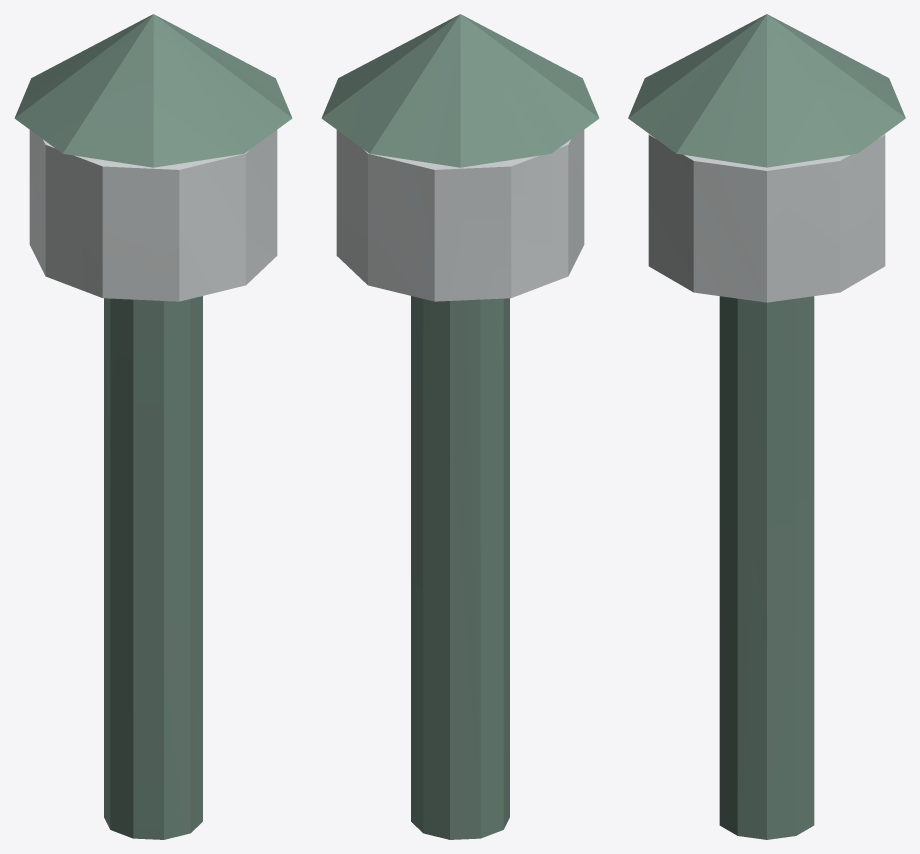
The model's file is lighthouse-06.glb.
3 views of the same model, side by side, from view 1: azimuth 30°, elevation 25°; view 2: azimuth 150°, elevation 25°; view 3: azimuth 270°, elevation 25° (orthographic).
Visible parts, largest first — view 1: world; view 2: world; view 3: world.
Boxes of the visible parts, x1,y1,x2,y2 form: world: (14,14,292,839); world: (321,14,599,839); world: (628,14,905,839).
Bounding box in the file's own units: 0.6595 × 2.14 × 0.6697.
